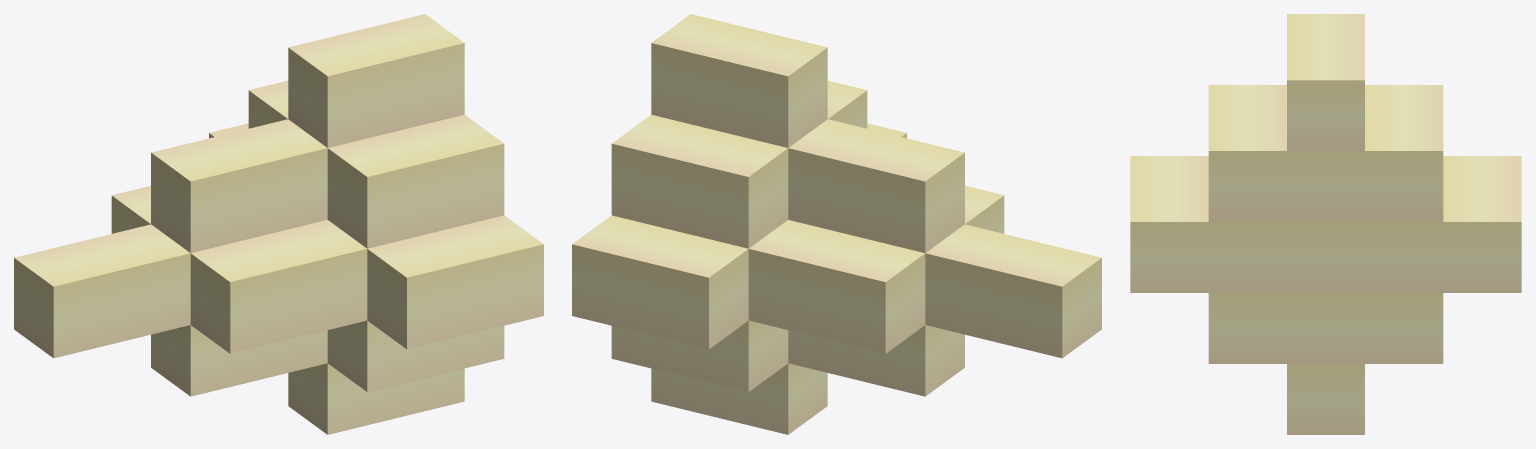
File: Arrow.obj
3 renders of one model, left to right at view 1: azimuth 30°, elevation 25°; view 2: azimuth 150°, elevation 25°; view 3: azimuth 270°, elevation 25°, orthographic.
Visible parts, largest first — view 1: Arrow; view 2: Arrow; view 3: Arrow.
Part boxes in pixels (box(x1,y1,x2,y2)): Arrow: box(14, 14, 543, 434); Arrow: box(572, 14, 1101, 434); Arrow: box(1130, 14, 1521, 434).
Bounding box in the file's own units: 6 × 5 × 5.
Materials: 1 (1 with a texture image).
